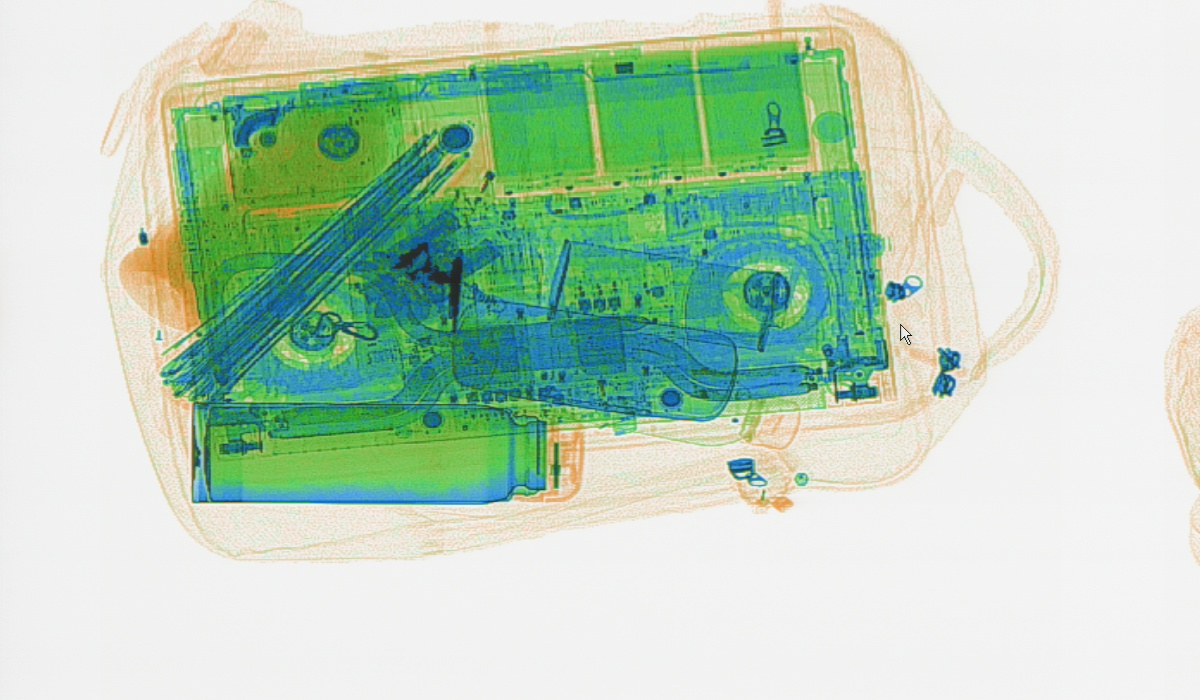lighter: (443, 111, 528, 224), (579, 327, 638, 434)
zippooil: (546, 235, 789, 352)
